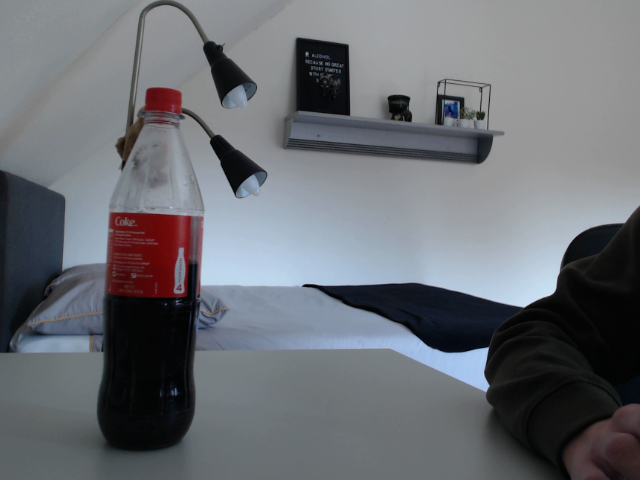bottle: (97, 88, 206, 450)
